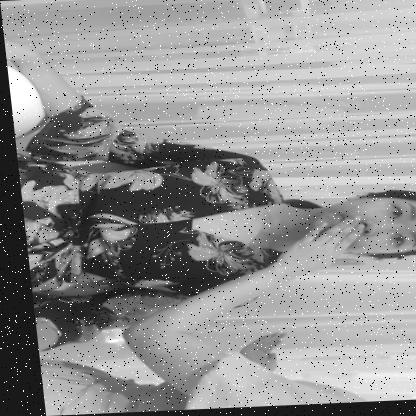streamer: (3, 22, 416, 350), (20, 215, 416, 416)
